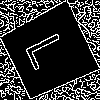L: (24, 27, 77, 72)
